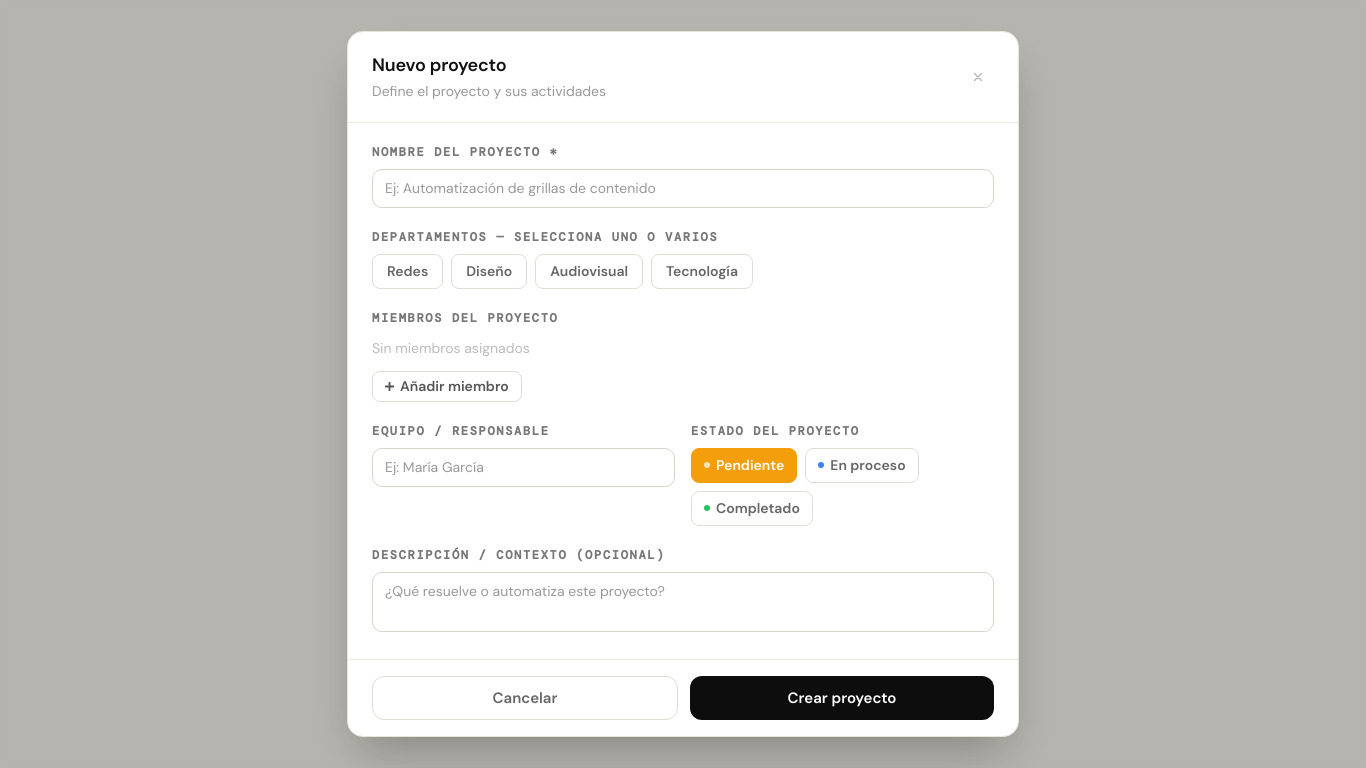
Scenario: ProjectModal — member picker › quitar un chip elimina al miembro de la selección
Click the button "Añadir miembro" at (447, 386), box [372,371,522,402]
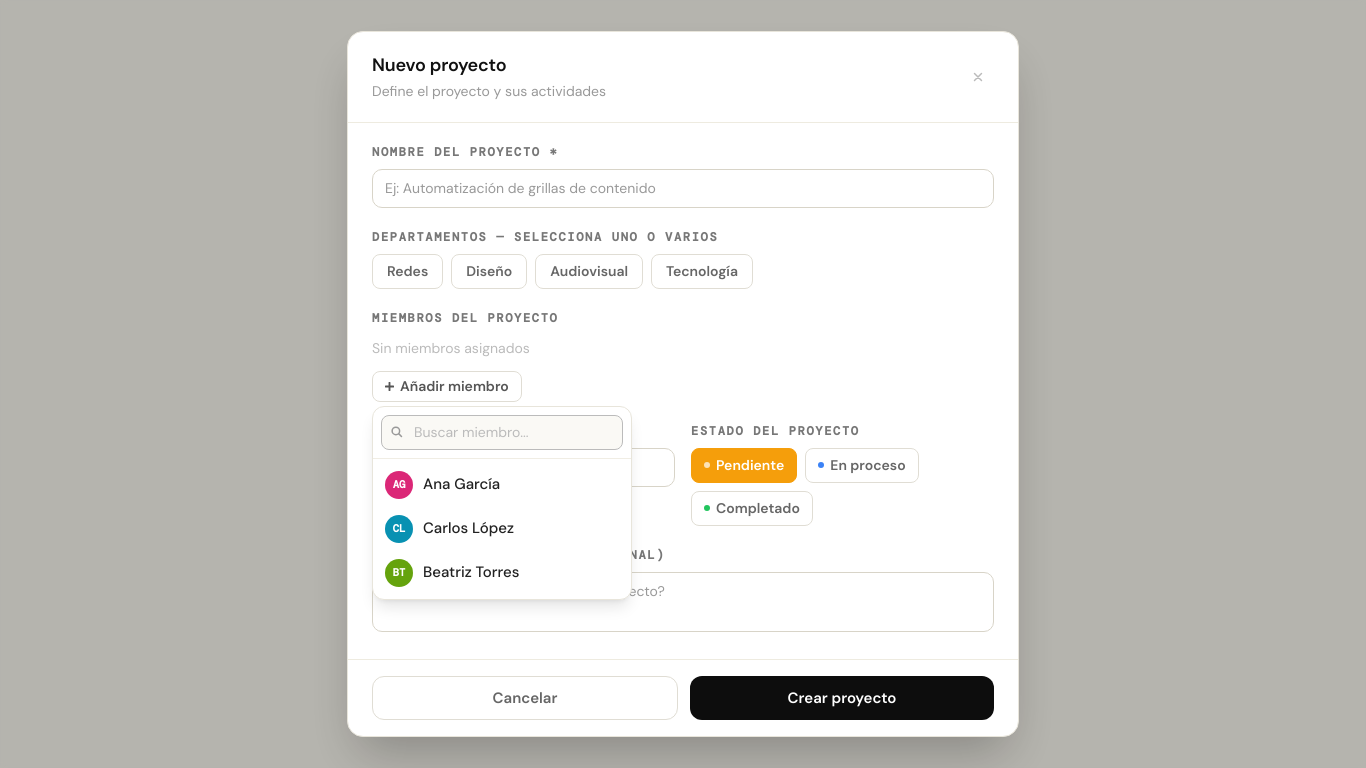
Click the button "AG Ana García" at (502, 485), box [373,463,631,507]
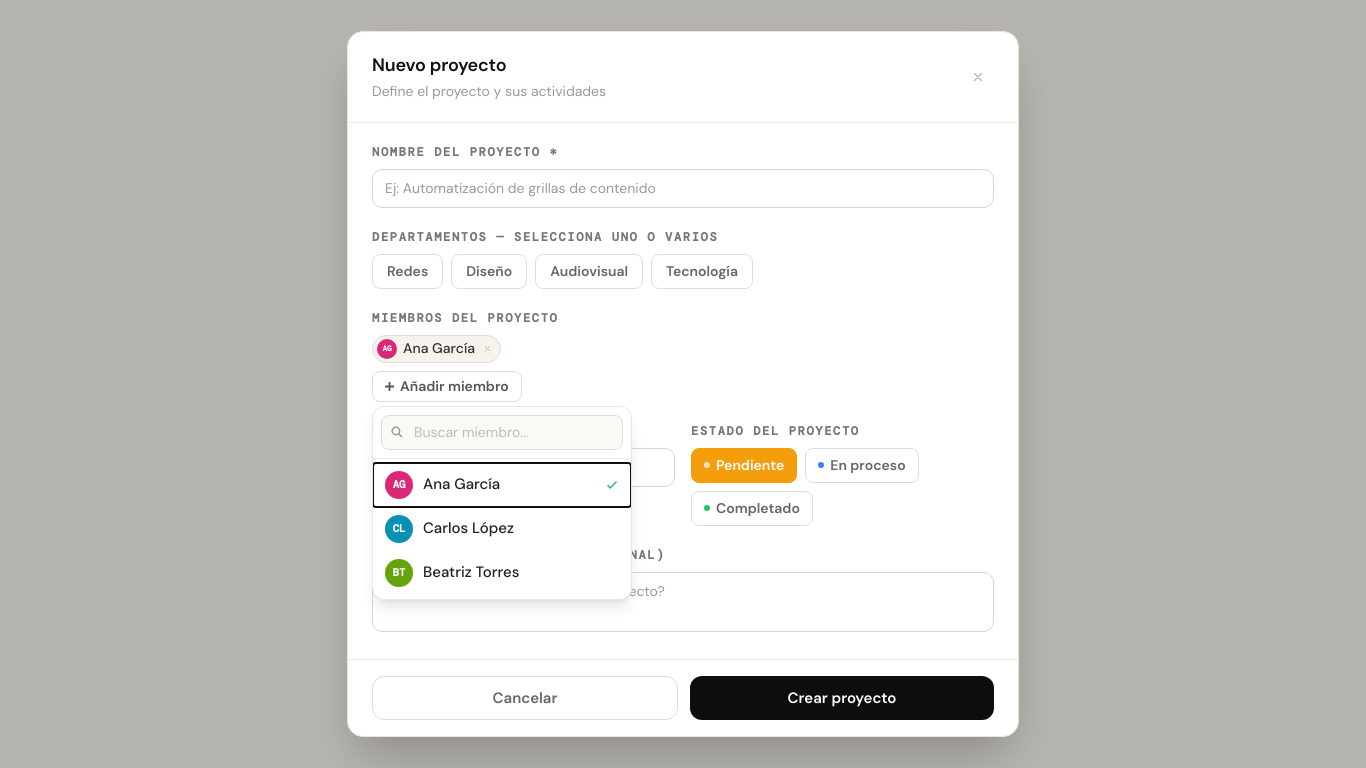
Click the button named "quitar a ana garcía" at (488, 349), box [483,344,492,353]
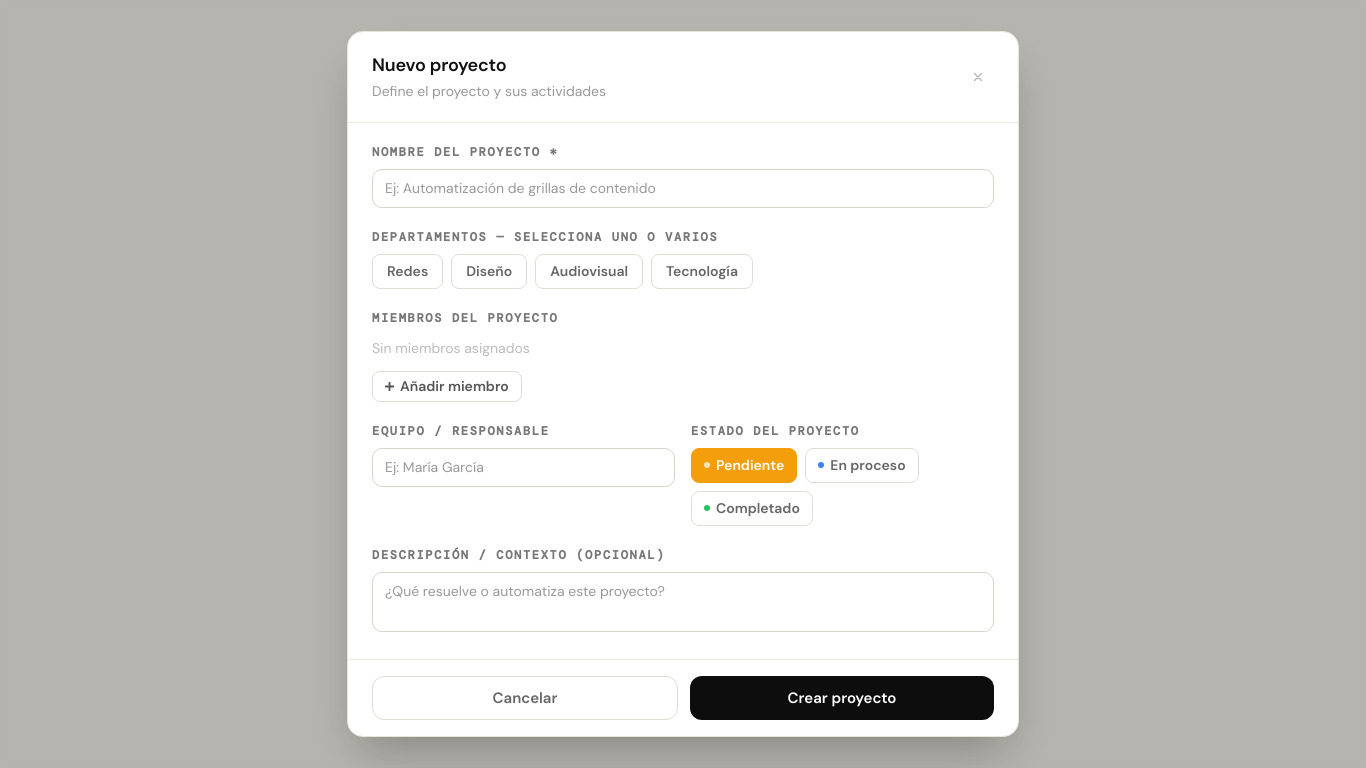
Expected: the text "Sin miembros asignados" is shown, [372,338,530,359]
